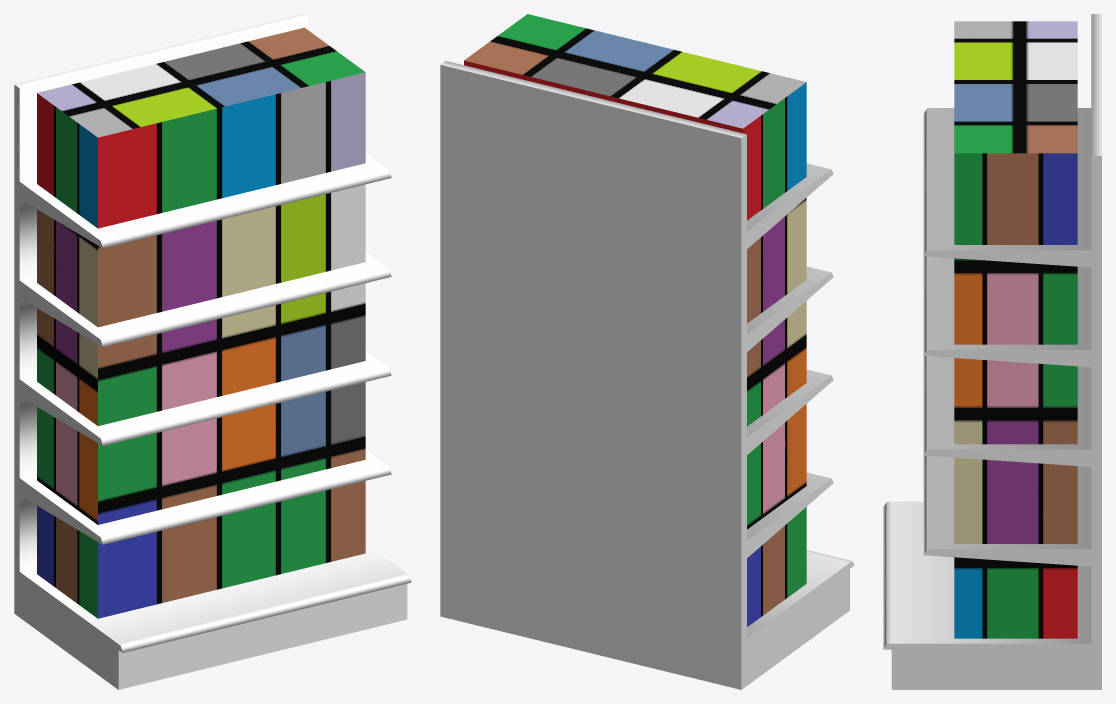
Rendered from FarShelfFilled.fbx.
The picture shows the model from 3 angles, left to right: view 1: azimuth 30°, elevation 25°; view 2: azimuth 150°, elevation 25°; view 3: azimuth 270°, elevation 25°; orthographic projection. The views are drawn at different scales.
Visible parts, largest first — view 1: Shelf; view 2: Shelf; view 3: Shelf.
Boxes of the visible parts, box(x1,y1,x2,y2) form: Shelf: box(14, 14, 411, 689); Shelf: box(440, 14, 854, 689); Shelf: box(883, 14, 1101, 689).
Size of the model in its own units: 400 by 700 by 260.
